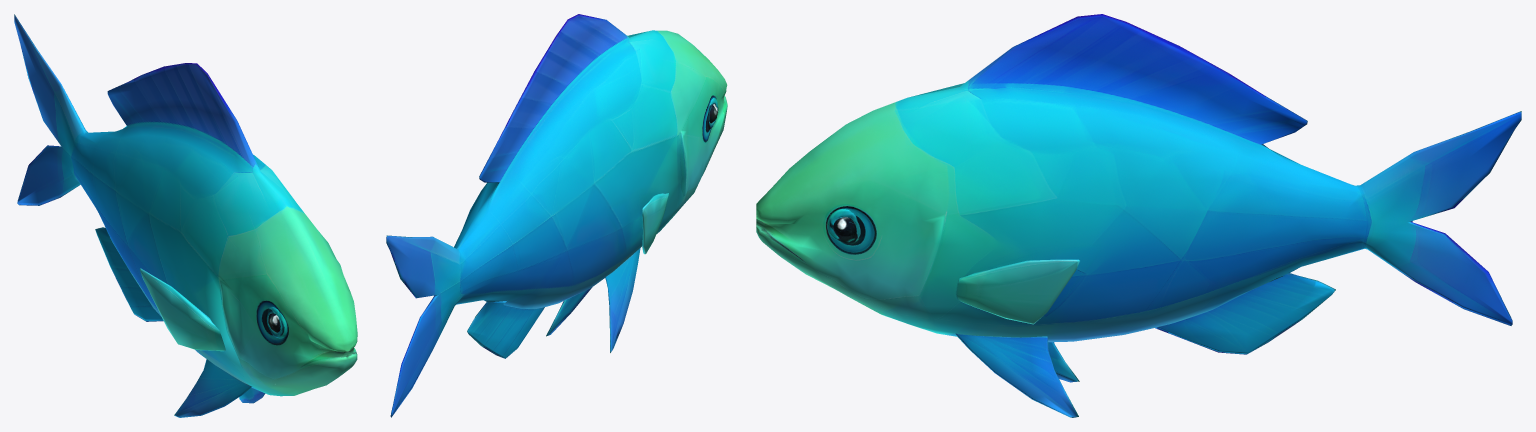
The picture shows the model from 3 angles, left to right: view 1: azimuth 30°, elevation 25°; view 2: azimuth 150°, elevation 25°; view 3: azimuth 270°, elevation 25°; orthographic projection. The views are drawn at different scales.
Size of the model in its own units: 0.2319 by 0.5566 by 1.
1 material, 1 textured.
